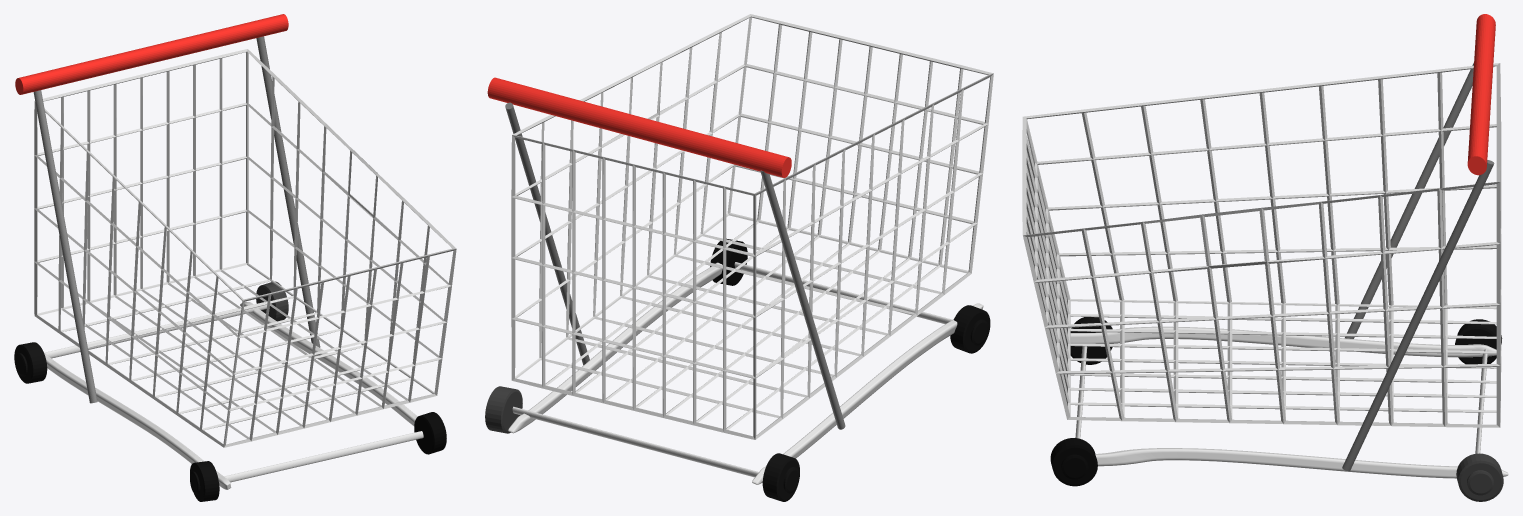
Rendered from trolley.fbx.
3 renders of one model, left to right at view 1: azimuth 30°, elevation 25°; view 2: azimuth 150°, elevation 25°; view 3: azimuth 270°, elevation 25°, orthographic. The views are drawn at different scales.
Visible parts, largest first — view 1: Cube, Cylinder.004, Cylinder.006, Cylinder.005, BezierCurve.001, BezierCurve.002, Cylinder.007, Cylinder.002, Cylinder.008, Cylinder, Cylinder.003, Cylinder.001; view 2: Cube, Cylinder.004, BezierCurve.001, BezierCurve.002, Cylinder.006, Cylinder.005, Cylinder.008, Cylinder.003, Cylinder.002, Cylinder.001, Cylinder.007, Cylinder; view 3: Cube, BezierCurve.002, BezierCurve.001, Cylinder.004, Cylinder.005, Cylinder.006, Cylinder.001, Cylinder, Cylinder.002, Cylinder.003.
Part boxes in pixels (x1,y1,x2,y2): Cube: (34, 49, 456, 447); Cylinder.004: (15, 14, 288, 94); Cylinder.006: (33, 90, 97, 403); Cylinder.005: (256, 36, 320, 347); BezierCurve.001: (44, 353, 231, 489); BezierCurve.002: (240, 302, 417, 426); Cylinder.007: (224, 431, 423, 482); Cylinder.002: (14, 342, 47, 383); Cylinder.008: (44, 302, 266, 358); Cylinder: (414, 412, 446, 454); Cylinder.003: (190, 461, 219, 501); Cylinder.001: (256, 281, 288, 321); Cube: (511, 14, 993, 439); Cylinder.004: (487, 77, 791, 177); BezierCurve.001: (752, 303, 983, 484); BezierCurve.002: (508, 262, 722, 433); Cylinder.006: (760, 170, 845, 429); Cylinder.005: (505, 102, 589, 365); Cylinder.008: (512, 406, 758, 477); Cylinder.003: (950, 305, 990, 353); Cylinder.002: (762, 453, 799, 501); Cylinder.001: (485, 386, 522, 433); Cylinder.007: (734, 262, 952, 323); Cylinder: (710, 238, 747, 285); Cube: (1022, 63, 1501, 427); BezierCurve.002: (1095, 448, 1508, 478); BezierCurve.001: (1070, 326, 1496, 357); Cylinder.004: (1467, 14, 1495, 175); Cylinder.005: (1342, 160, 1494, 471); Cylinder.006: (1345, 63, 1473, 338); Cylinder.001: (1456, 453, 1503, 501); Cylinder: (1050, 438, 1097, 486); Cylinder.002: (1455, 319, 1502, 364); Cylinder.003: (1070, 317, 1112, 364).
Size of the model in its own units: 521 by 576 by 727.
